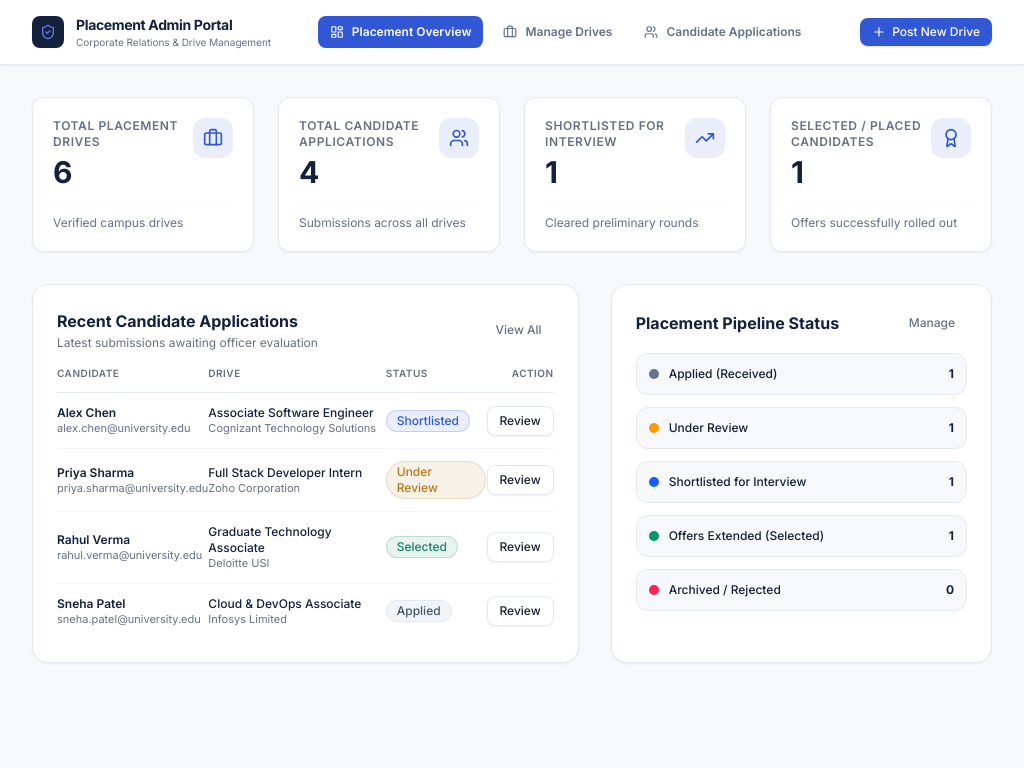
Test: Admin Dashboard Component Tests › opens job creation modal when clicking Post New Drive button
Click the button "Post New Drive". click: [926, 32]
box: [860,18,992,46]
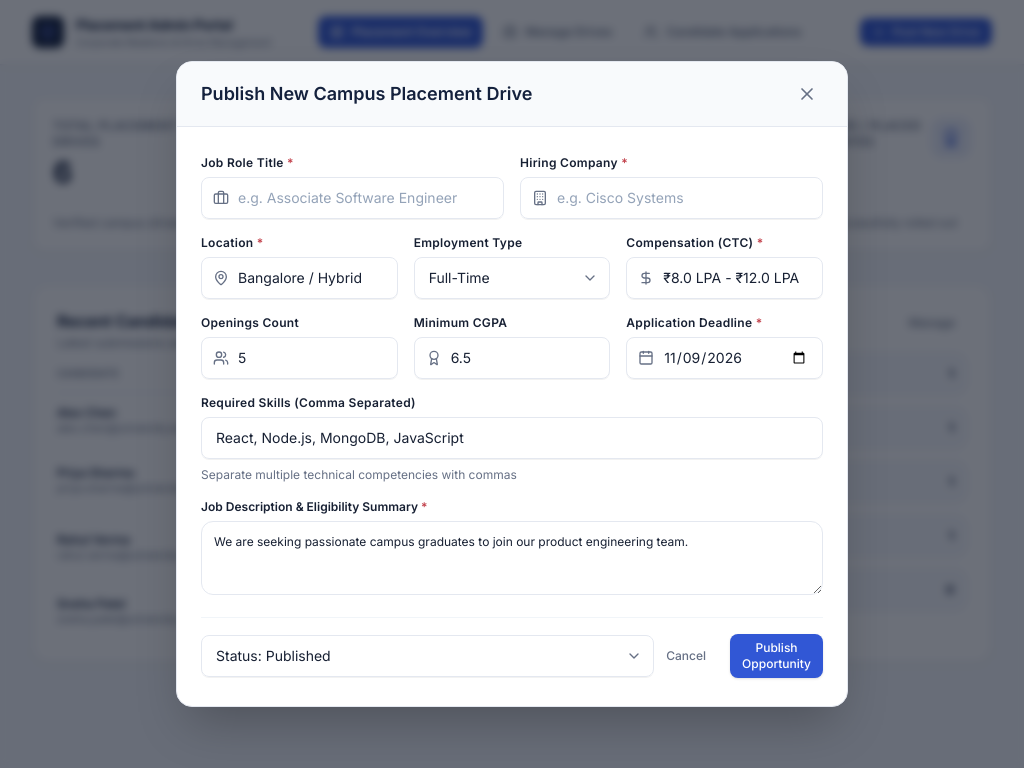
Expected: the heading "Publish New Campus Placement Drive" is shown, [201,80,532,108]
Expected: the field labelled "Job Role Title *" is shown, [201,177,504,219]
Expected: the field labelled "Hiring Company *" is shown, [520,177,823,219]
